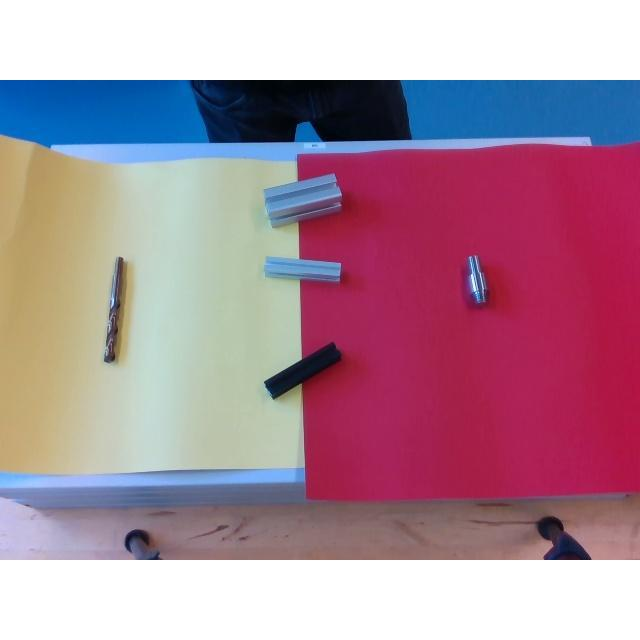Axis2: (467, 254, 487, 302)
Drill: (103, 256, 125, 360)
F20_20_B: (262, 344, 342, 396)
S40_40_G: (264, 173, 340, 225), (264, 256, 340, 280)
